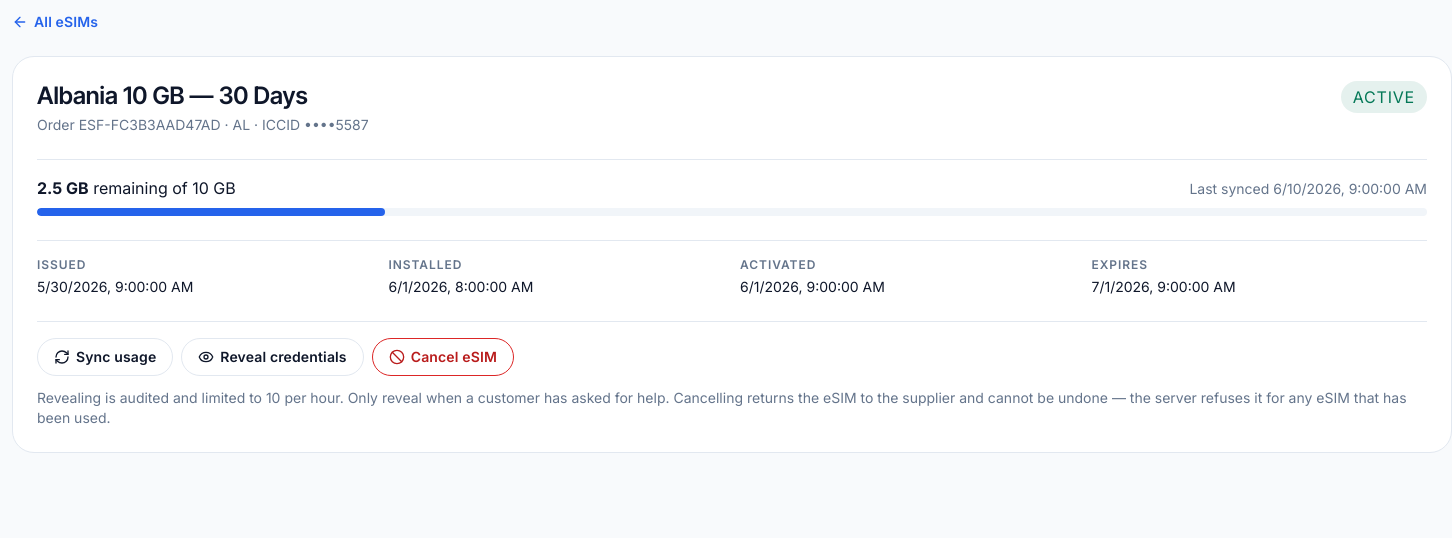
Test case: credentials › names the role limit on a 403
The width and height of the screenshot is (1452, 538).
Expected: the heading named "albania 10 gb" is shown, left=37, top=81, right=308, bottom=110
What coordinates should you click on to do the following:
click the 2nd button named "reveal credentials"
I would click on:
 (272, 357)
Its box is left=181, top=338, right=364, bottom=376.
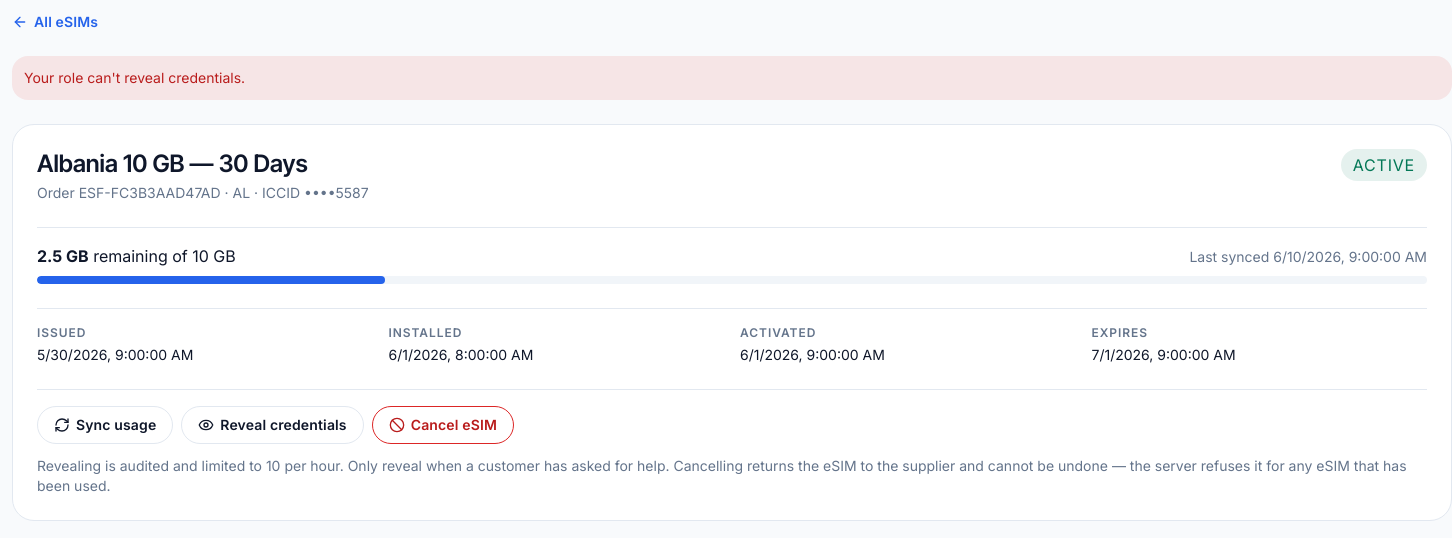
Expected: the text "your role can't reveal credentials" is shown, left=24, top=69, right=245, bottom=86
